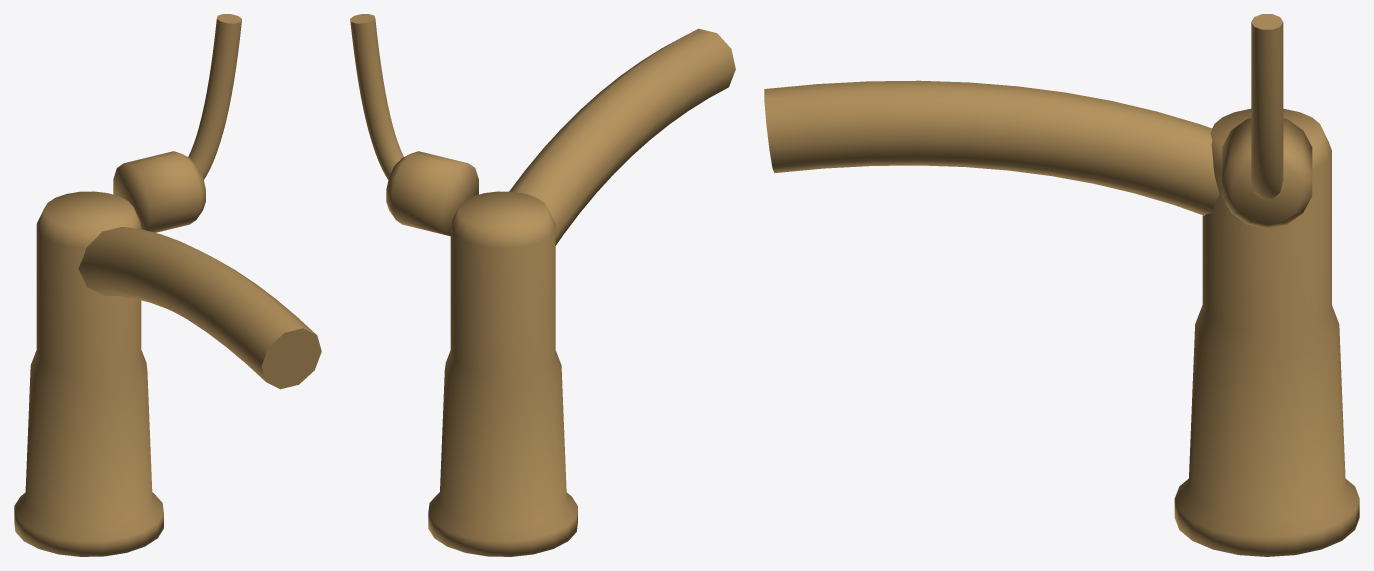
The model's file is a_faucet_short_2.glb.
The picture shows the model from 3 angles, left to right: view 1: azimuth 30°, elevation 25°; view 2: azimuth 150°, elevation 25°; view 3: azimuth 270°, elevation 25°; orthographic projection. The views are drawn at different scales.
Visible parts, largest first — view 1: o, o.001, o.002, o.003; view 2: o, o.001, o.002, o.003; view 3: o, o.001, o.002, o.003.
Part boxes in pixels (x1,y1,x2,y2): o: [14, 191, 163, 556]; o.001: [78, 227, 321, 389]; o.002: [113, 151, 205, 232]; o.003: [188, 14, 241, 179]; o: [428, 191, 577, 556]; o.001: [509, 28, 735, 245]; o.002: [386, 151, 478, 236]; o.003: [350, 14, 403, 179]; o: [1174, 108, 1359, 556]; o.001: [764, 80, 1219, 215]; o.002: [1222, 118, 1312, 228]; o.003: [1251, 14, 1283, 199].
Bounding box in the file's own units: 0.0863 × 0.1805 × 0.1674.
